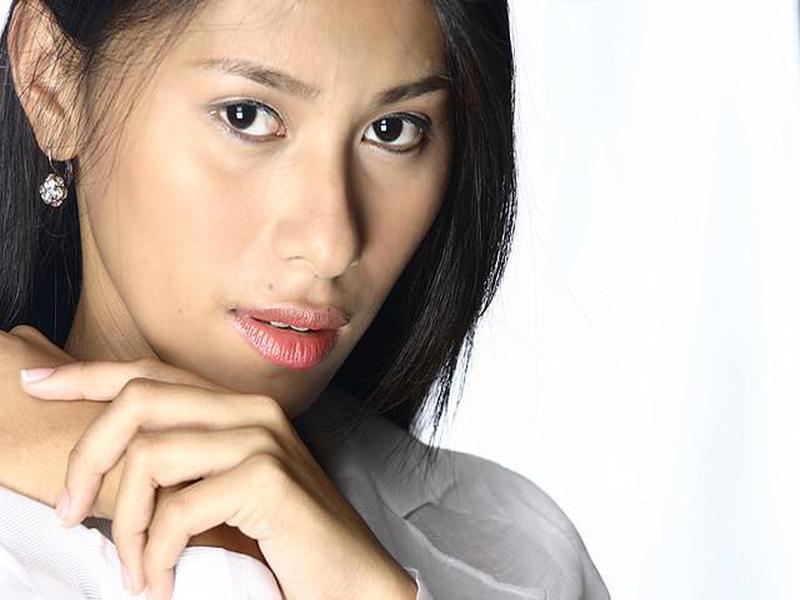person: (1, 1, 620, 600)
